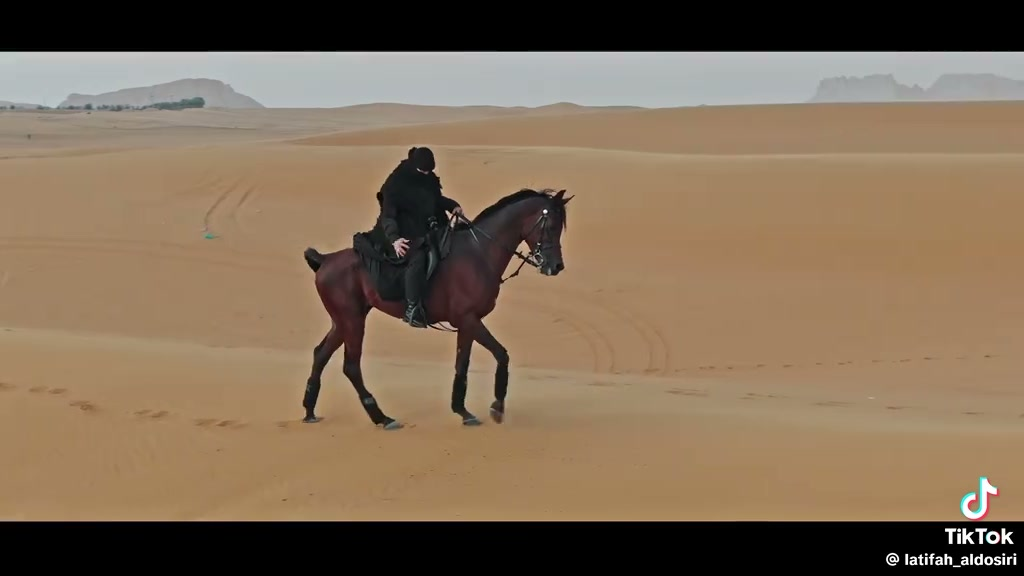animal_foot_print: (193, 418, 245, 428), (133, 409, 170, 419), (665, 388, 708, 396), (69, 400, 97, 411), (813, 400, 852, 407)
